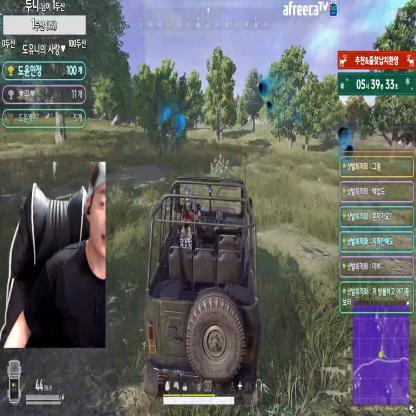streamer: (4, 160, 106, 348)
